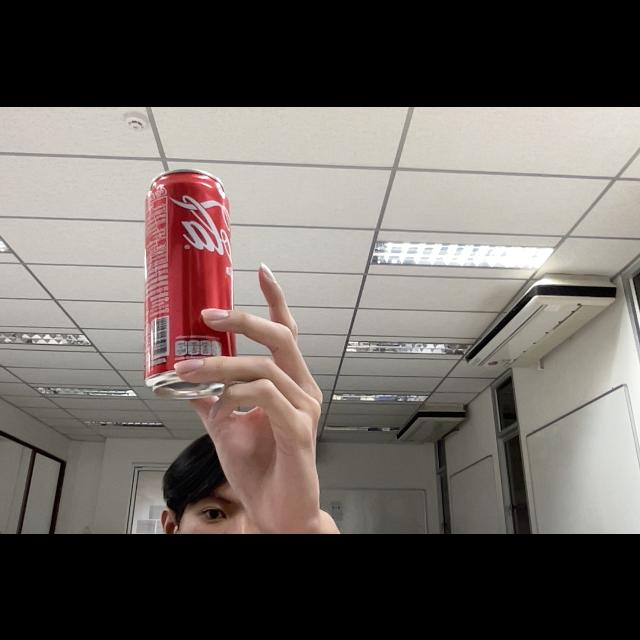can: (138, 164, 240, 406)
